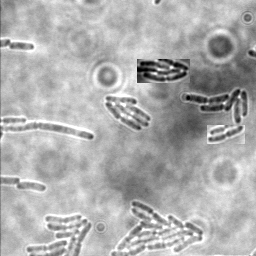Dividing: (1, 123, 95, 142), (207, 125, 245, 144), (8, 41, 35, 52)
Microcolony: (109, 200, 205, 255), (25, 212, 94, 255), (184, 89, 248, 126), (103, 96, 150, 132), (137, 59, 190, 83), (16, 182, 48, 193)
